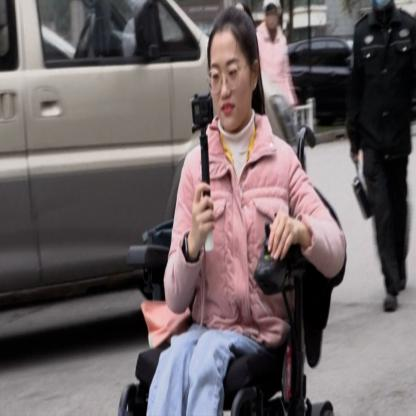wheelchair: (122, 6, 350, 416)
